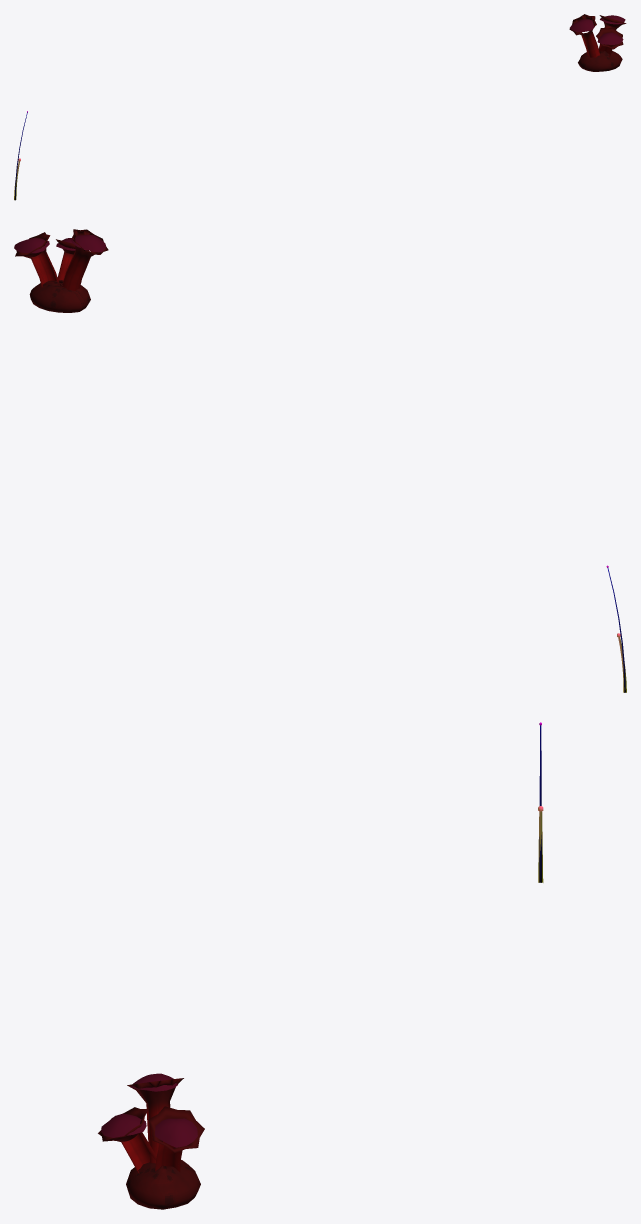
The model's file is torch.glb.
3 views of the same model, one above another, from view 1: azimuth 30°, elevation 25°; view 2: azimuth 150°, elevation 25°; view 3: azimuth 270°, elevation 25° (orthographic). The views are drawn at different scales.
Visible parts, largest first — view 1: Body; view 2: Body; view 3: Body.
Part boxes in pixels (x1,y1,x2,y2): Body: [569, 14, 626, 71]; Body: [14, 229, 108, 312]; Body: [98, 1073, 204, 1209].
Bounding box in the file's own units: 63.6 × 15.99 × 23.6.
Materials: 5 (4 with a texture image).
